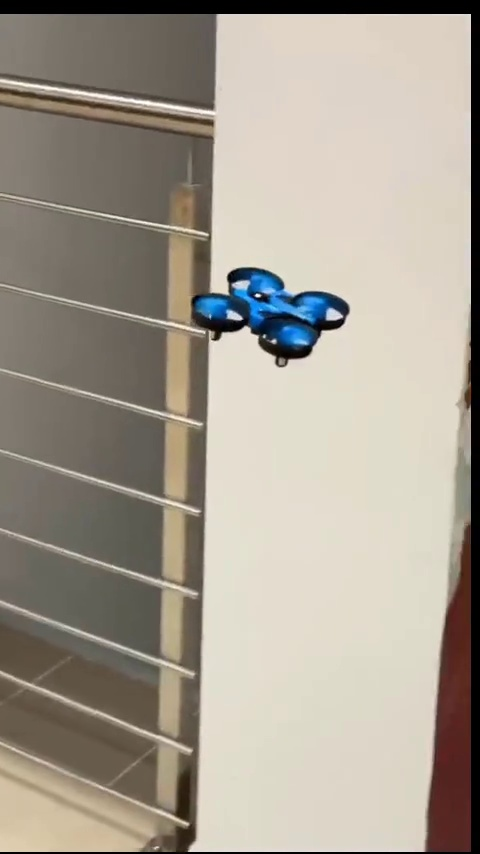drone: (192, 272, 354, 364)
